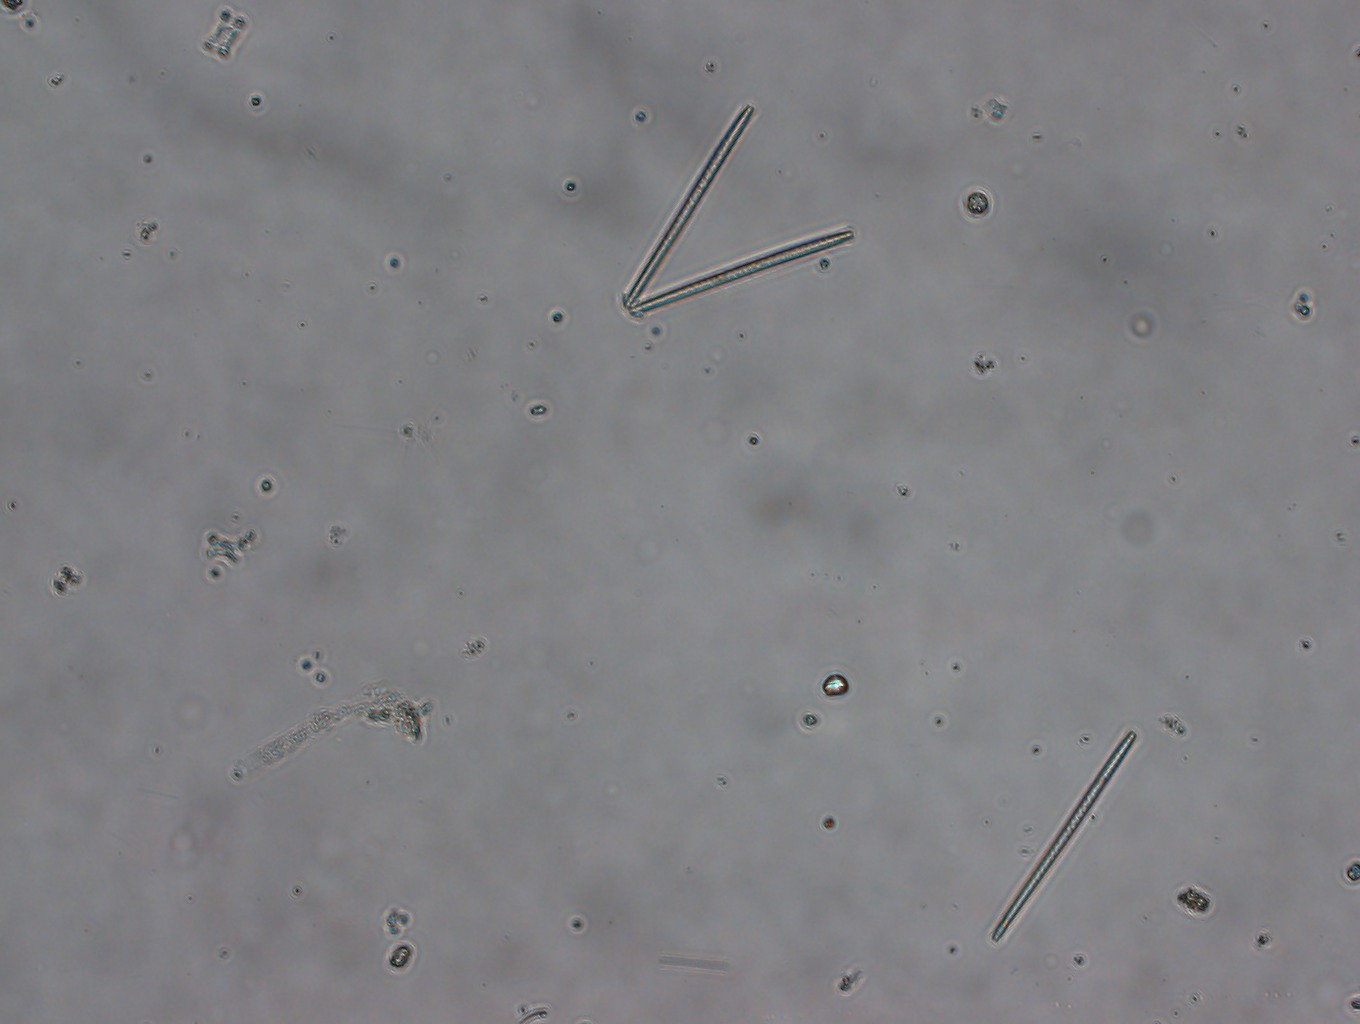thalassionema frauenfeldii: (615, 105, 872, 326)
